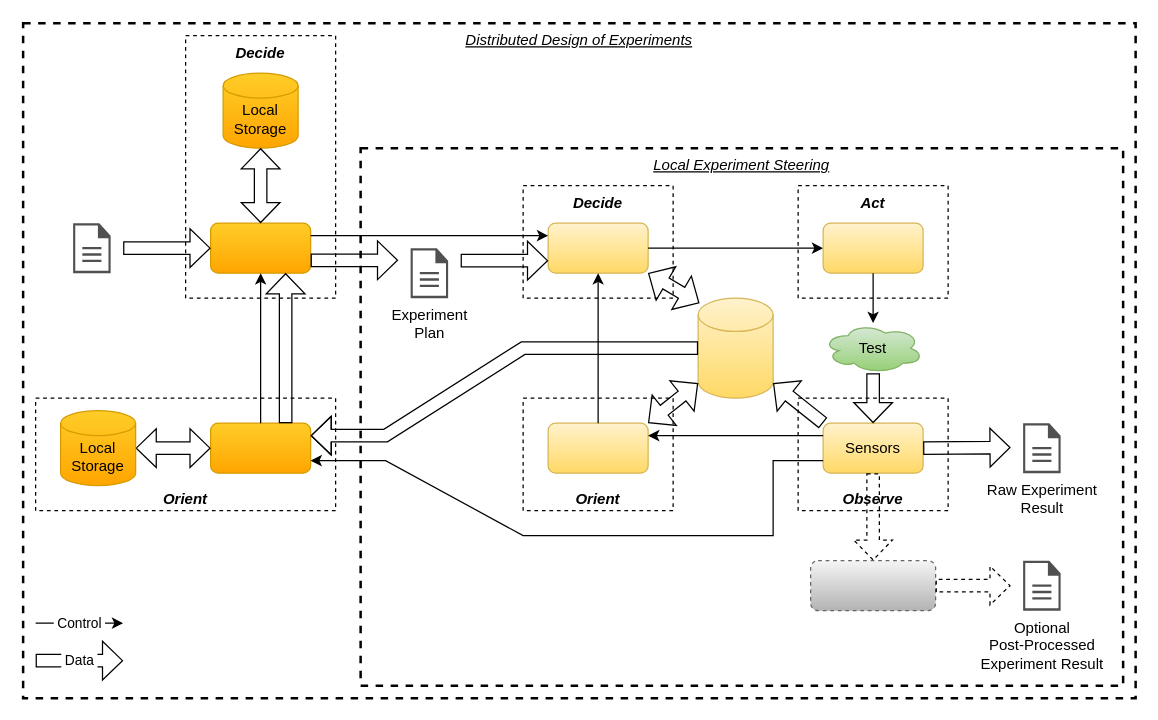
Image size: 1158x720. Some labels were removed from this diagram. Here are the shapes that lost their labels. From the top down, the centre of each, then its label:
pixel 91 247: Experiment Design Plan
pixel 260 247: Remote Planner
pixel 597 247: Controller
pixel 872 247: Actuators
pixel 735 347: Shared Local Storage
pixel 260 447: Remote Analyser
pixel 597 447: Analyser
pixel 872 585: Optional Post-Processing
